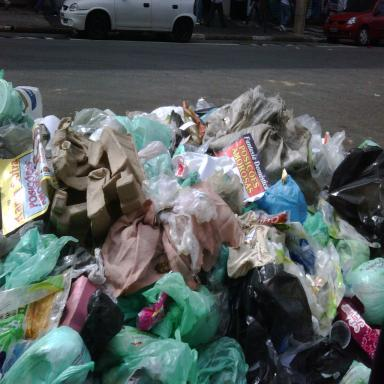plasticbag: (0, 68, 383, 384)
